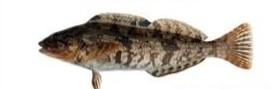fish: (38, 13, 254, 88)
